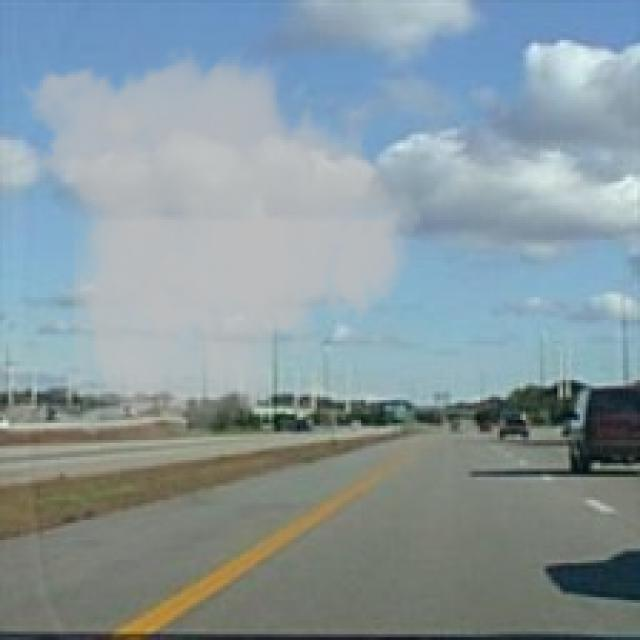smoke: (9, 40, 434, 449)
